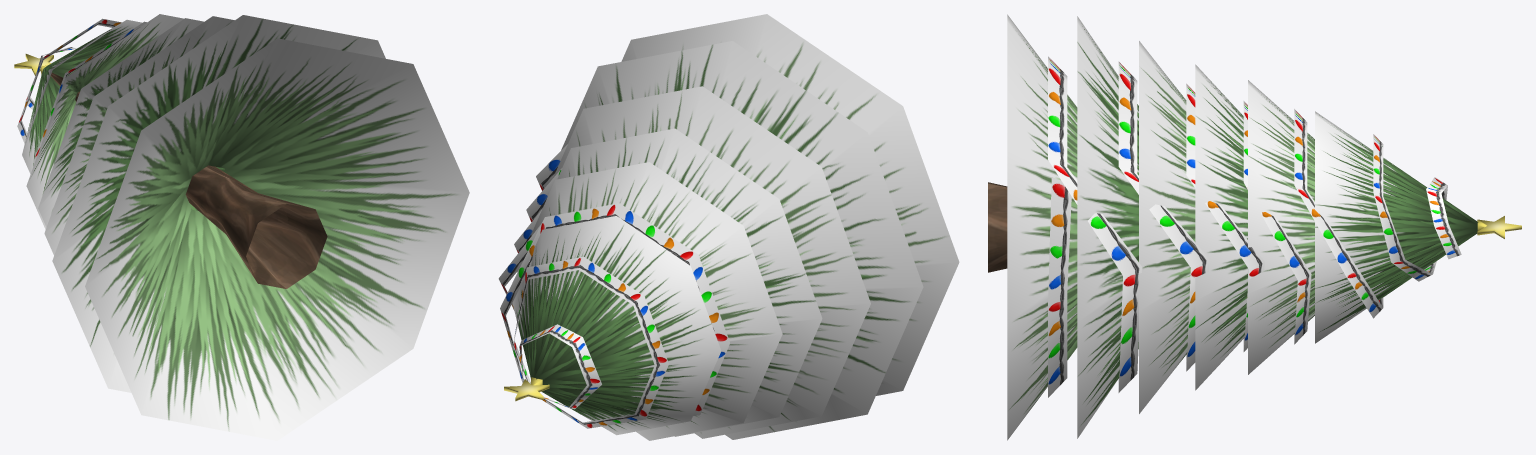
File: Christmas_tree.fbx
3 renders of one model, left to right at view 1: azimuth 30°, elevation 25°; view 2: azimuth 150°, elevation 25°; view 3: azimuth 270°, elevation 25°, orthographic. The views are drawn at different scales.
Parts seen in each view (by area): view 1: Christmas_tree; view 2: Christmas_tree; view 3: Christmas_tree.
Part boxes in pixels (<box>): Christmas_tree: <box>14,14,469,440</box>; Christmas_tree: <box>498,14,959,440</box>; Christmas_tree: <box>988,14,1521,440</box>.
Size of the model in its own units: 472 by 472 by 554.
